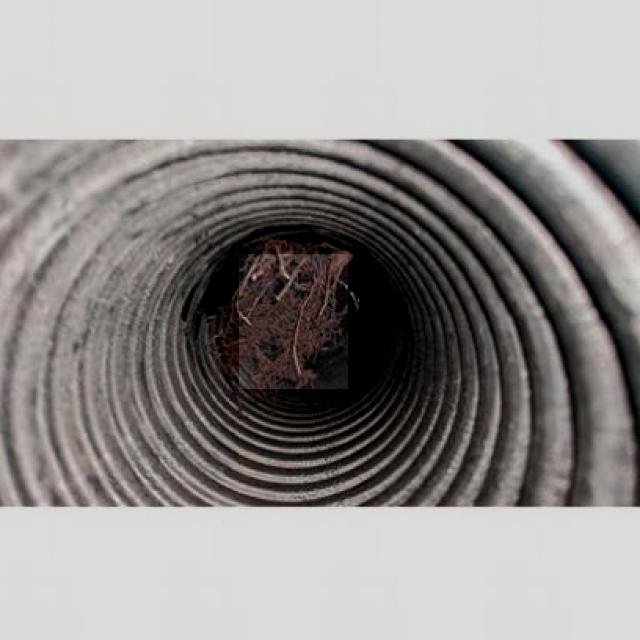root: (218, 244, 345, 394)
